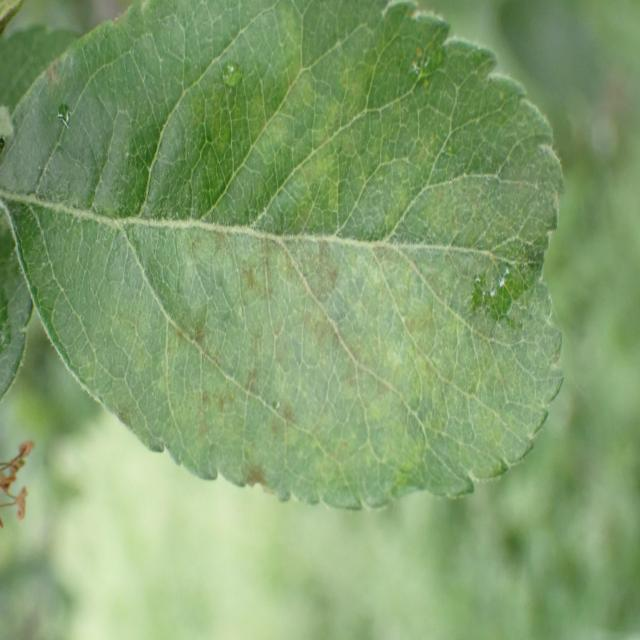scab: (27, 14, 543, 520)
